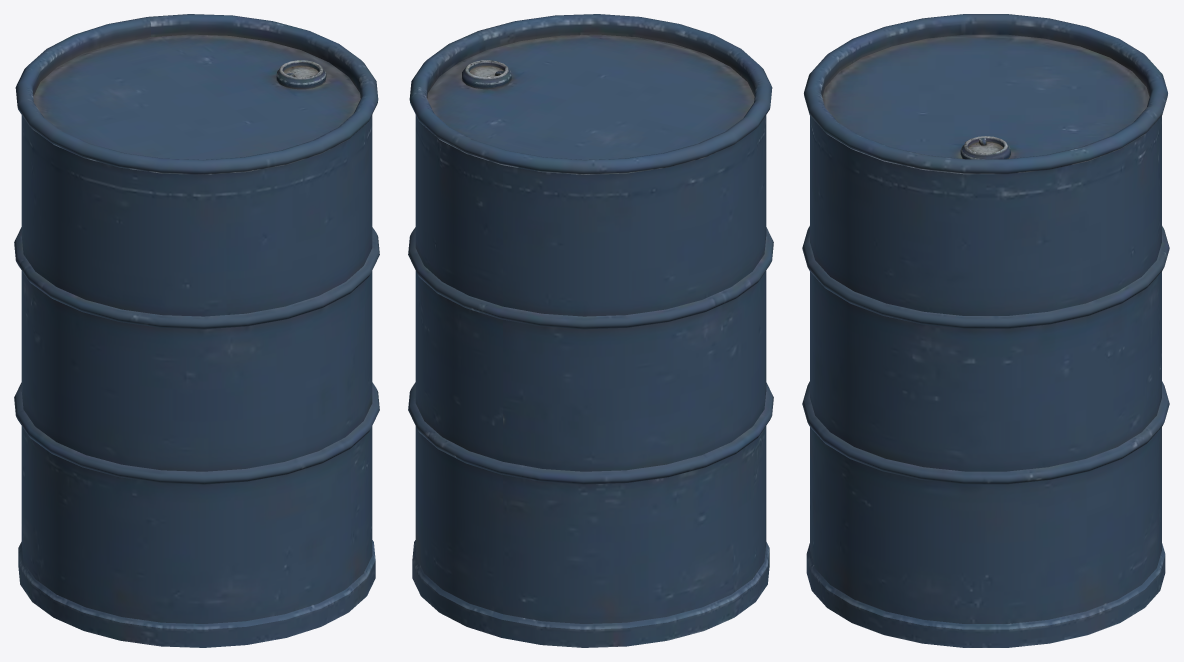
File: barrel_03.glb
3 views of the same model, side by side, from view 1: azimuth 30°, elevation 25°; view 2: azimuth 150°, elevation 25°; view 3: azimuth 270°, elevation 25° (orthographic).
Visible parts, largest first — view 1: barrel_03; view 2: barrel_03; view 3: barrel_03.
Boxes of the visible parts, box(x1,y1,x2,y2) form: barrel_03: box(14, 14, 379, 647); barrel_03: box(408, 14, 773, 647); barrel_03: box(802, 14, 1169, 647).
Bounding box in the file's own units: 0.6339 × 0.9305 × 0.6386.
1 material, 1 textured.
